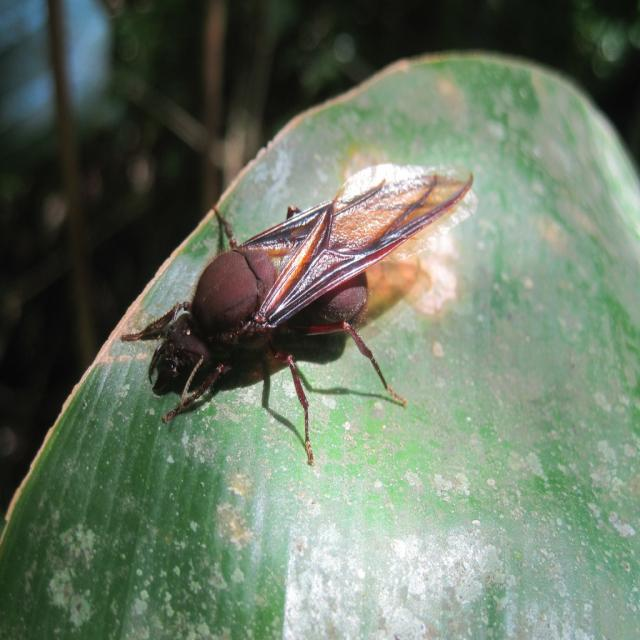Alive-Female-Alate: (119, 166, 477, 464)
